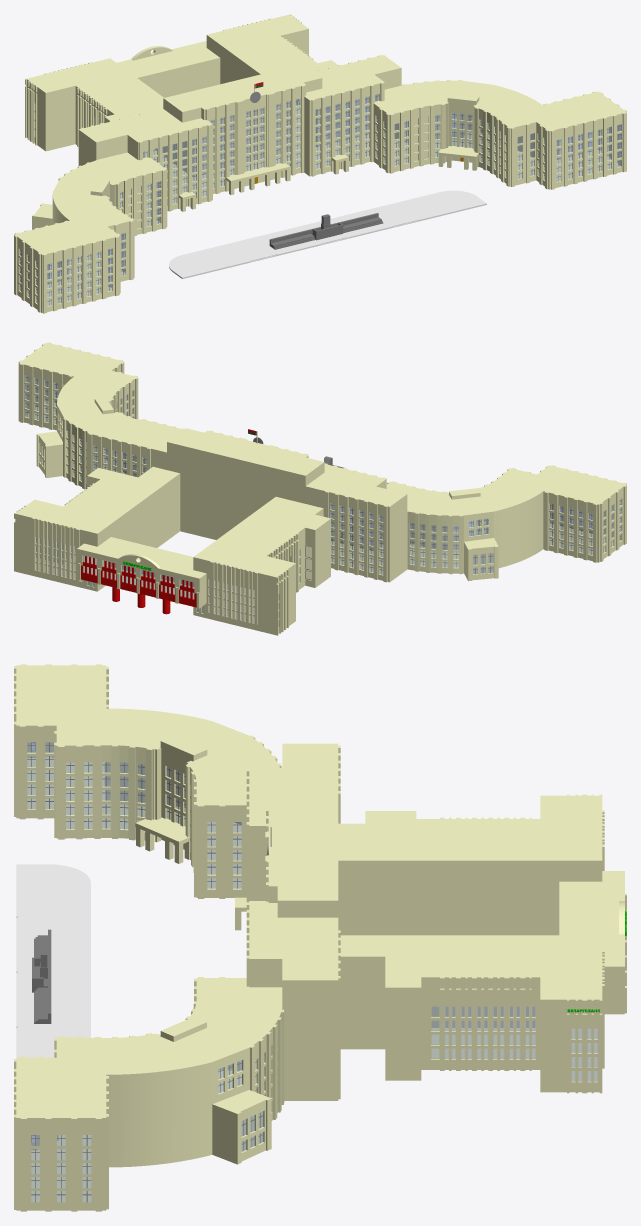
Rendered from oblispolkom.glb.
3 renders of one model, top to bottom at view 1: azimuth 30°, elevation 25°; view 2: azimuth 150°, elevation 25°; view 3: azimuth 270°, elevation 25°, orthographic. The views are drawn at different scales.
Visible parts, largest first — view 1: Geom3D (×5); view 2: Geom3D (×5); view 3: Geom3D (×5).
Part boxes in pixels (x1=…): Geom3D (×5): x1=14, y1=14, x2=626, y2=313; Geom3D (×5): x1=14, y1=342, x2=626, y2=635; Geom3D (×5): x1=14, y1=664, x2=626, y2=1211.
Size of the model in its own units: 5.43 by 0.875 by 3.09.
13 materials, 3 textured.
